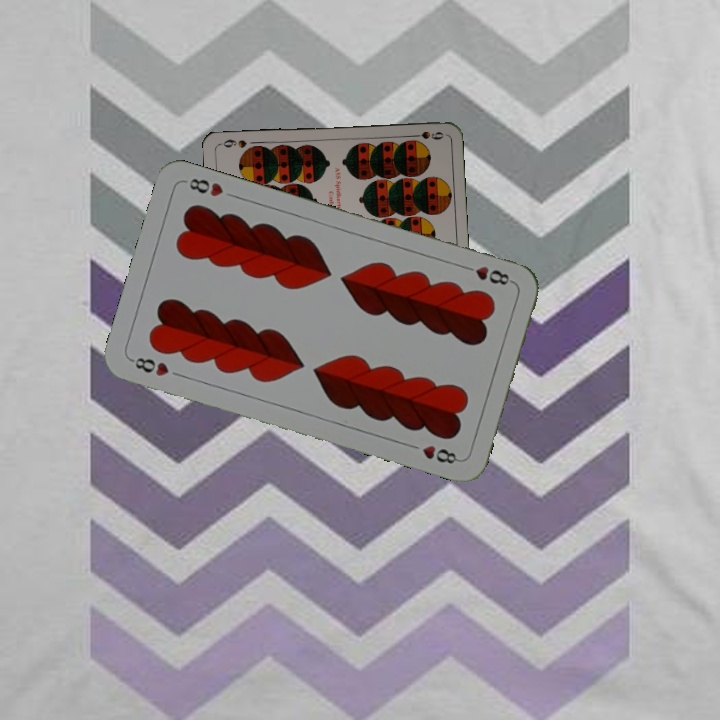H8: (458, 261, 516, 288), (126, 353, 172, 379)
S9: (406, 127, 446, 142)
